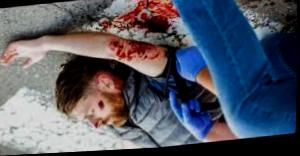Fire: (99, 0, 180, 35), (109, 39, 168, 63), (235, 0, 297, 13), (99, 101, 105, 110)
